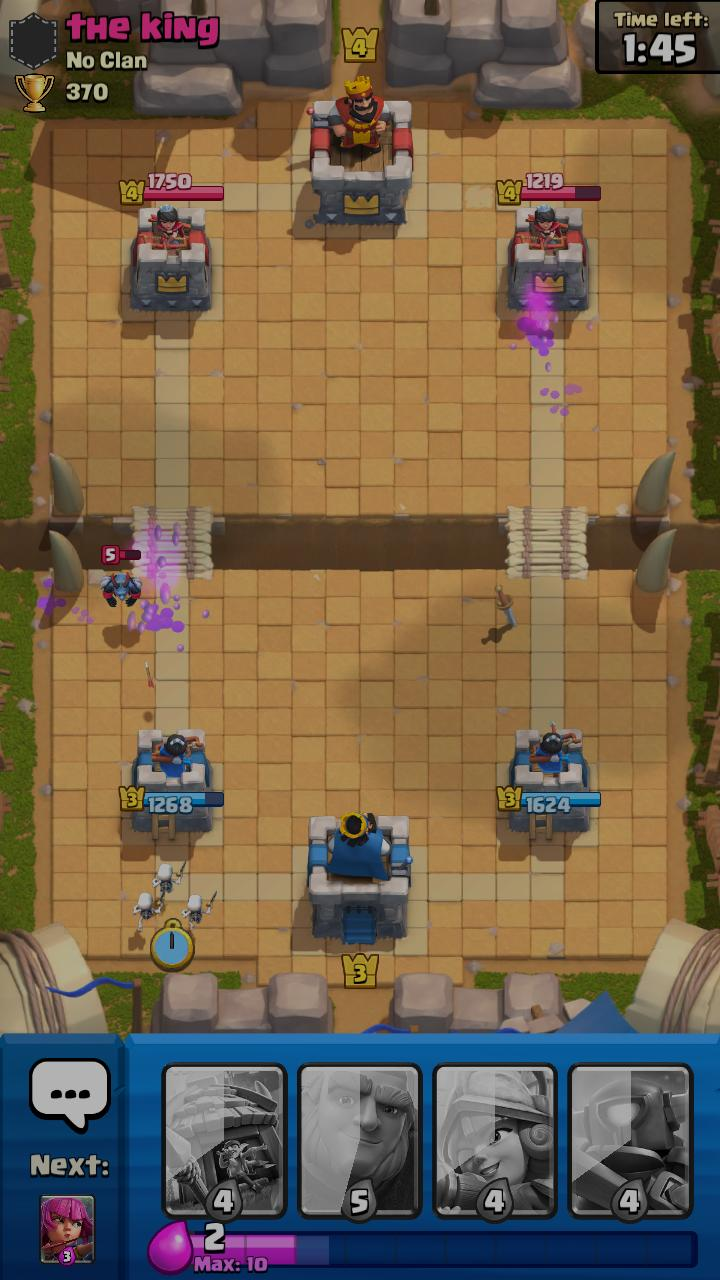ally: (181, 890, 217, 930), (152, 860, 187, 900), (132, 889, 165, 931)
enemy: (100, 545, 143, 607)
